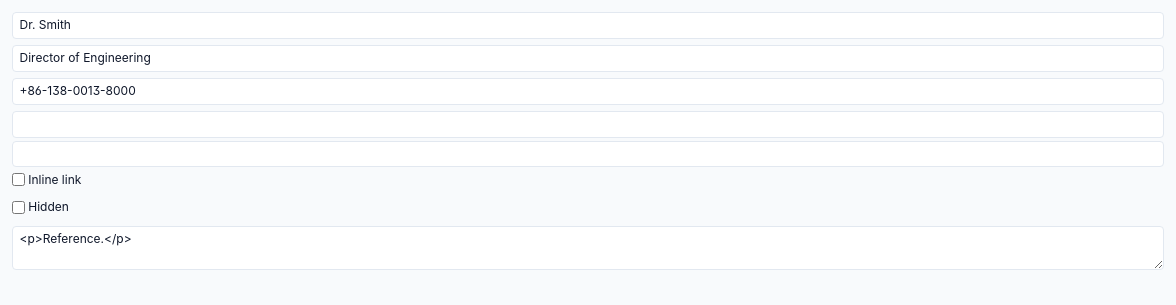
Test: ReferencesDialog (AC-10, R4: NO email, R10: phone free-form, AC-19) › URL scheme blacklist rejects javascript: (AC-16)
In the field with test id "references-website-url": (588, 124) [12,111,1164,138], type "javascript:alert(1)"
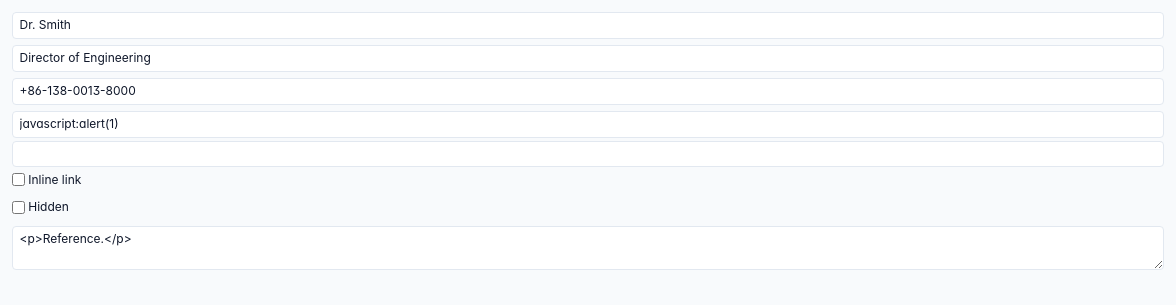
Leave the field with test id "references-website-url", box [12,111,1164,138]
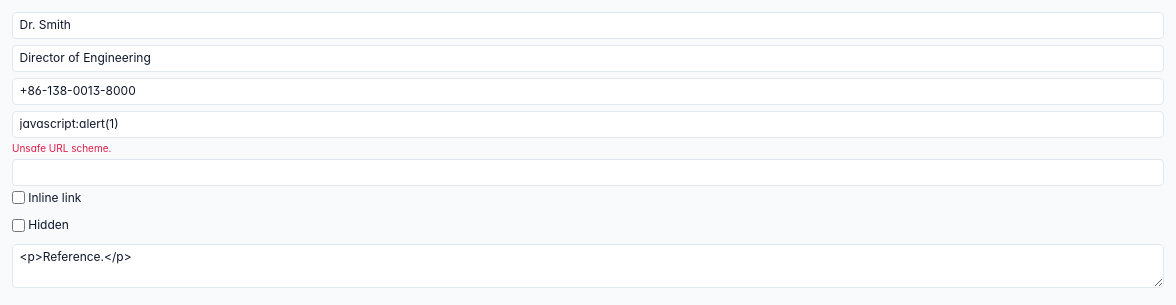
Now the text "Unsafe URL scheme." is shown, box [12,142,111,154]
